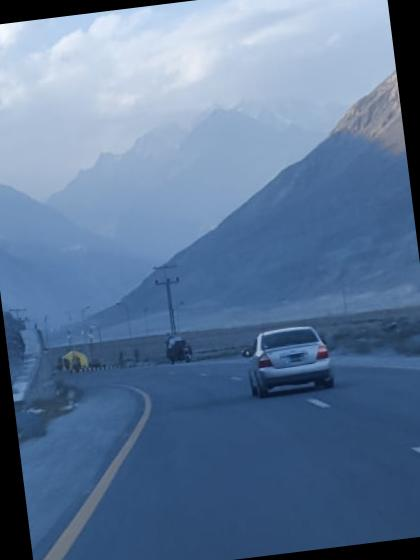left_turn: (62, 322, 229, 428)
